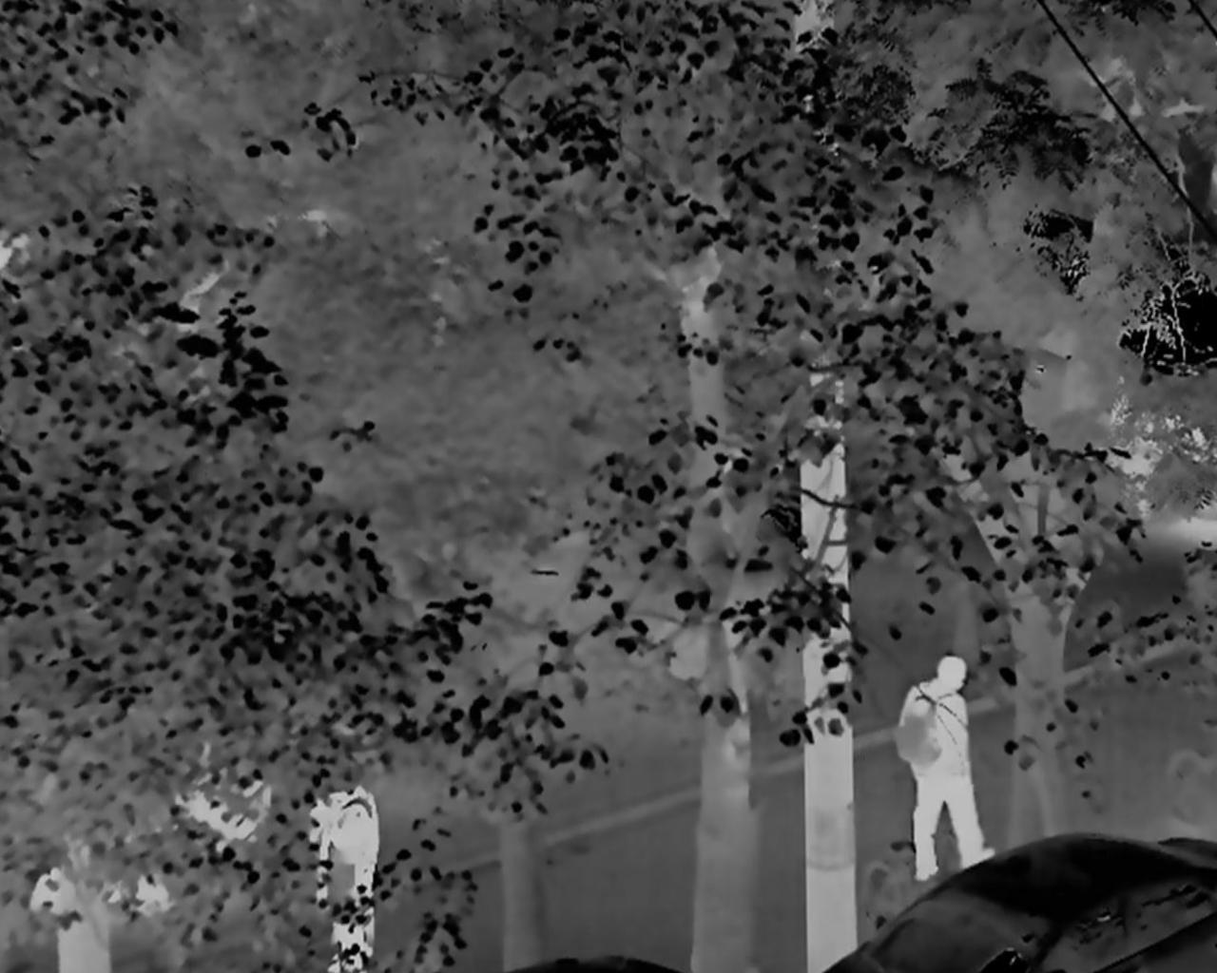person: (895, 652, 997, 888), (315, 773, 377, 973)
